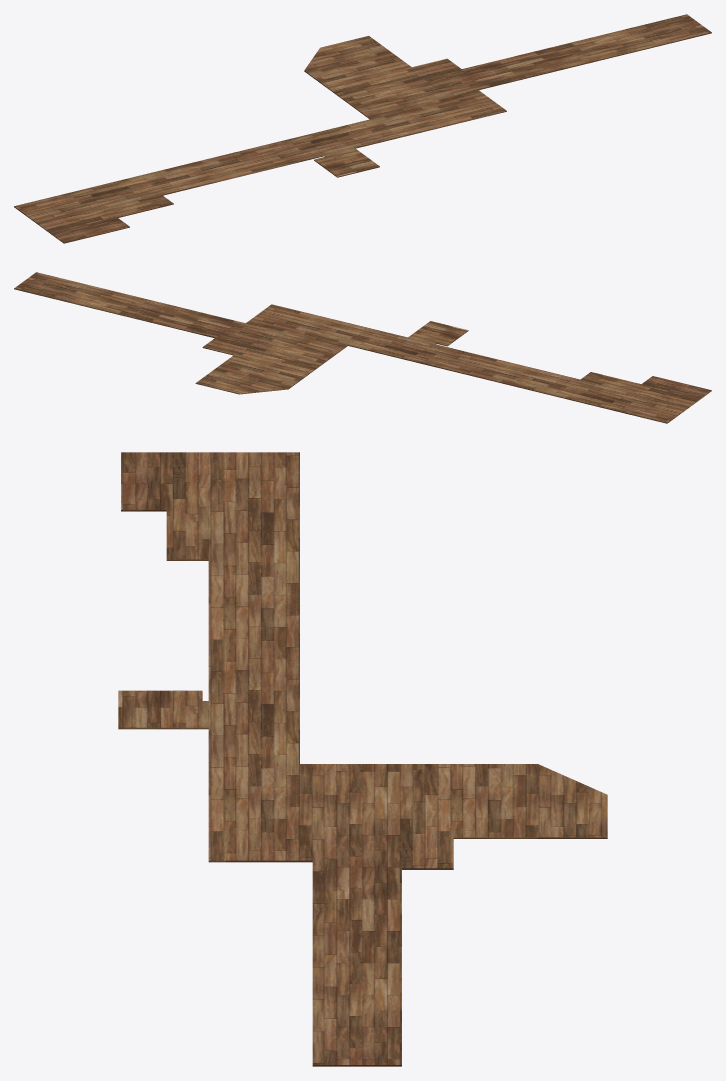
File: lower.glb
3 renders of one model, top to bottom at view 1: azimuth 30°, elevation 25°; view 2: azimuth 150°, elevation 25°; view 3: azimuth 270°, elevation 25°, orthographic. The views are drawn at different scales.
Parts seen in each view (by area): view 1: lower_corridor; view 2: lower_corridor; view 3: lower_corridor.
Part boxes in pixels (left/top/right/bottom): lower_corridor: left=14, top=14, right=711, bottom=243; lower_corridor: left=14, top=272, right=711, bottom=423; lower_corridor: left=118, top=452, right=607, bottom=1066.
Size of the model in its own units: 171 by 0.2 by 57.63.
1 material, 1 textured.
